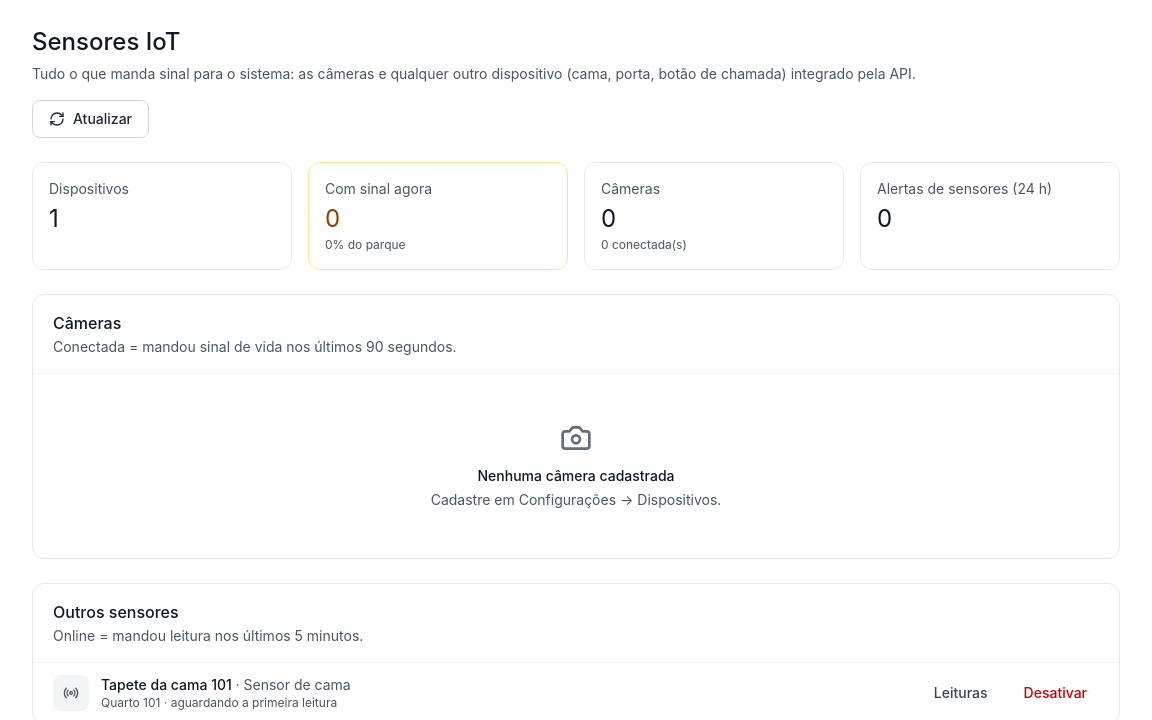
Test case: Sensores › desativar: avisa e busca a lista de sensores de novo
Check: the text "Tapete da cama 101 · Sensor de cama" is shown, box [101,676,351,693]
Click the button "Desativar" at (1055, 693), box [1012,677,1099,709]
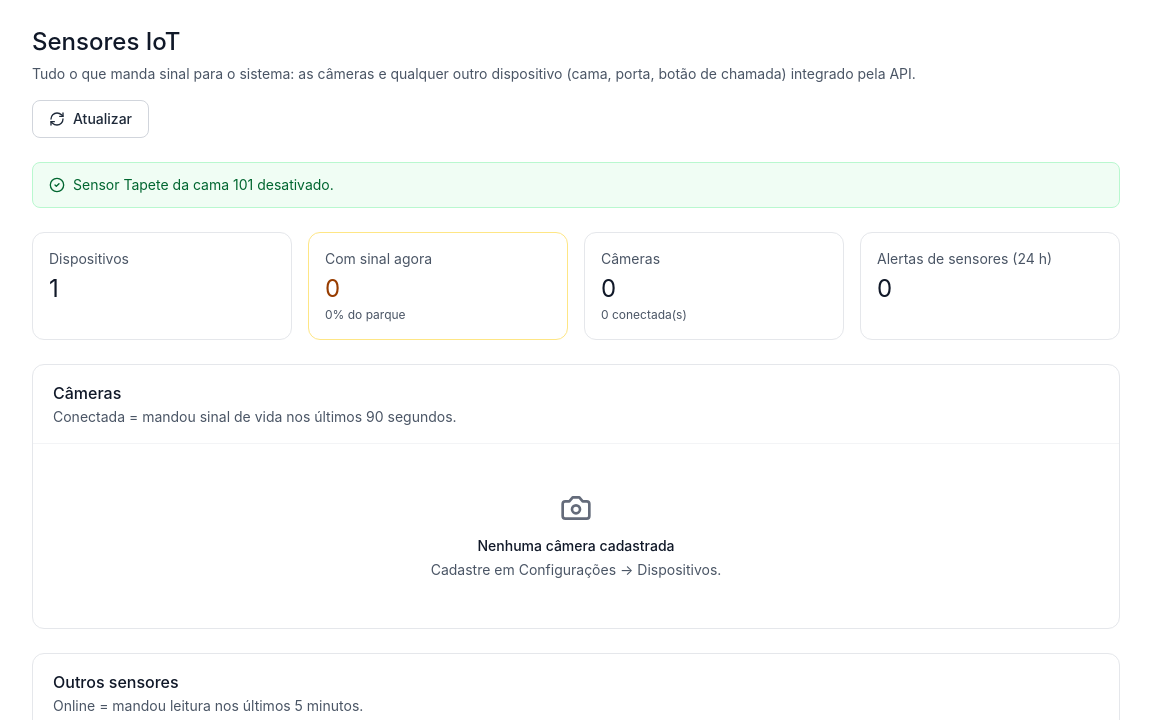
Check: the text "Sensor Tapete da cama 101 desativado." is shown, box [73,175,334,195]
